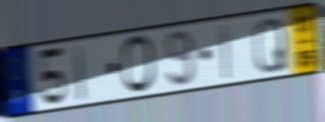5: (33, 45, 68, 108)
9: (163, 28, 195, 88)
I: (73, 42, 87, 103), (219, 22, 232, 82)
O: (120, 33, 158, 96)
Q: (252, 16, 290, 76)
